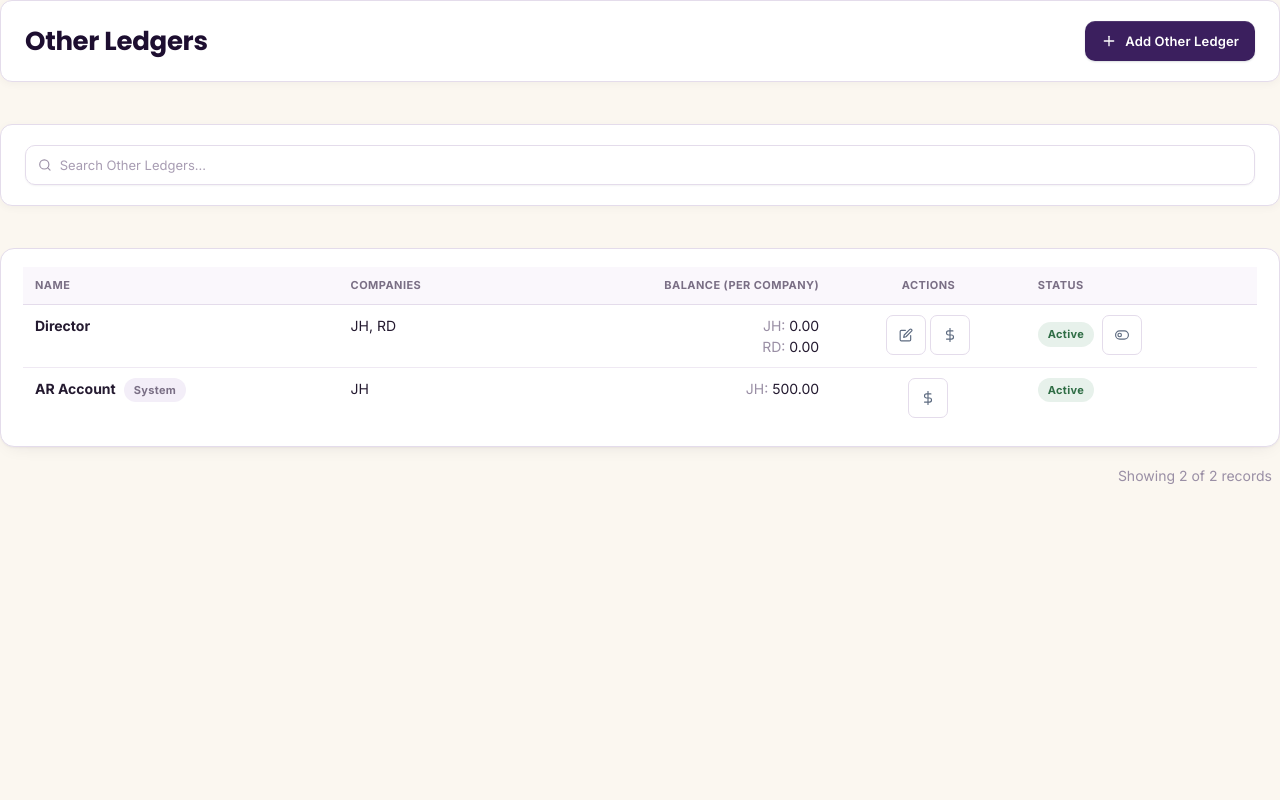
Test: OtherLedgerManagement - Opening Balance › server refusal (date not earlier than an existing entry) surfaces as an error popup
Expected: the text "Director" is shown, top-left (35, 316), bottom-right (90, 334)
Click the button titled "Set Opening Balance" in the row of "Director". click: (950, 334)
box: top-left (930, 314), bottom-right (970, 354)
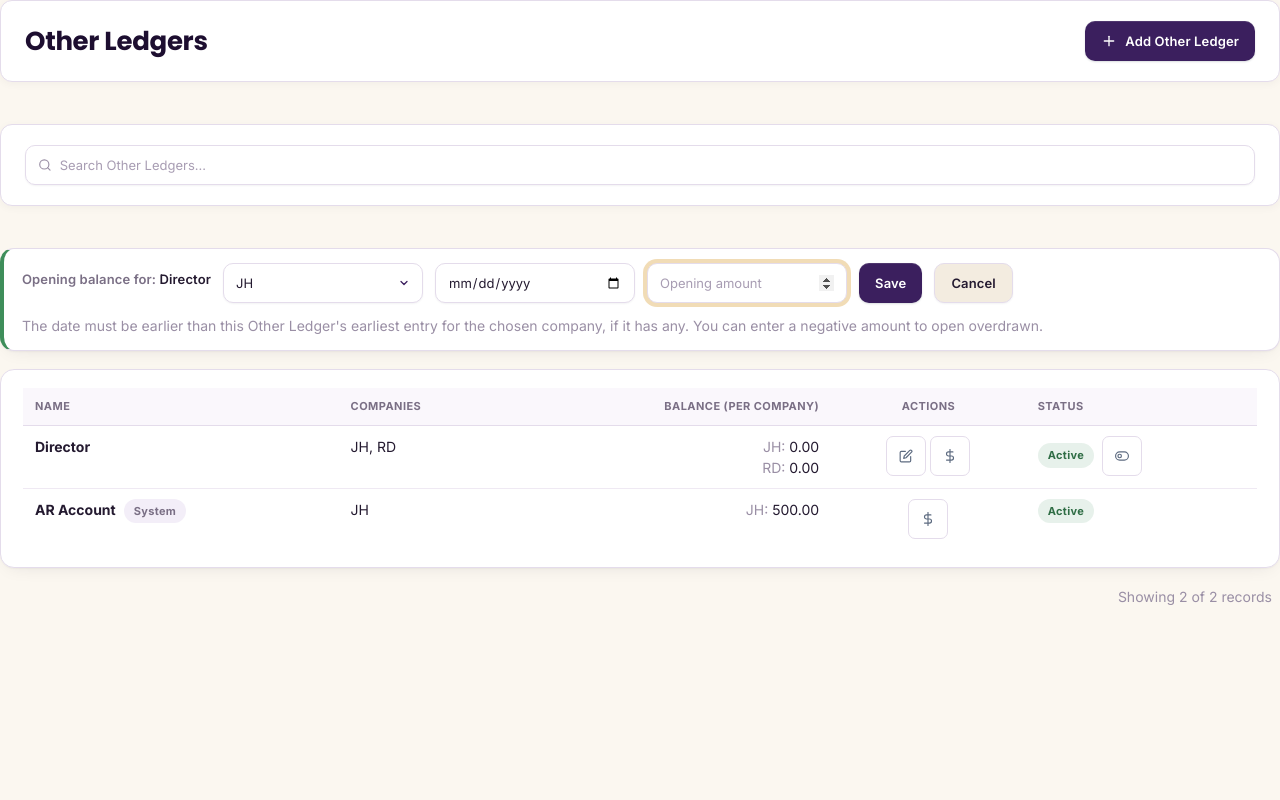
Result: the text "Opening balance for: Director" is shown at top-left (22, 270), bottom-right (211, 290)
Type "2026-09-20" into the date field named "Opening balance date". click: (535, 283)
box: top-left (435, 263), bottom-right (635, 303)
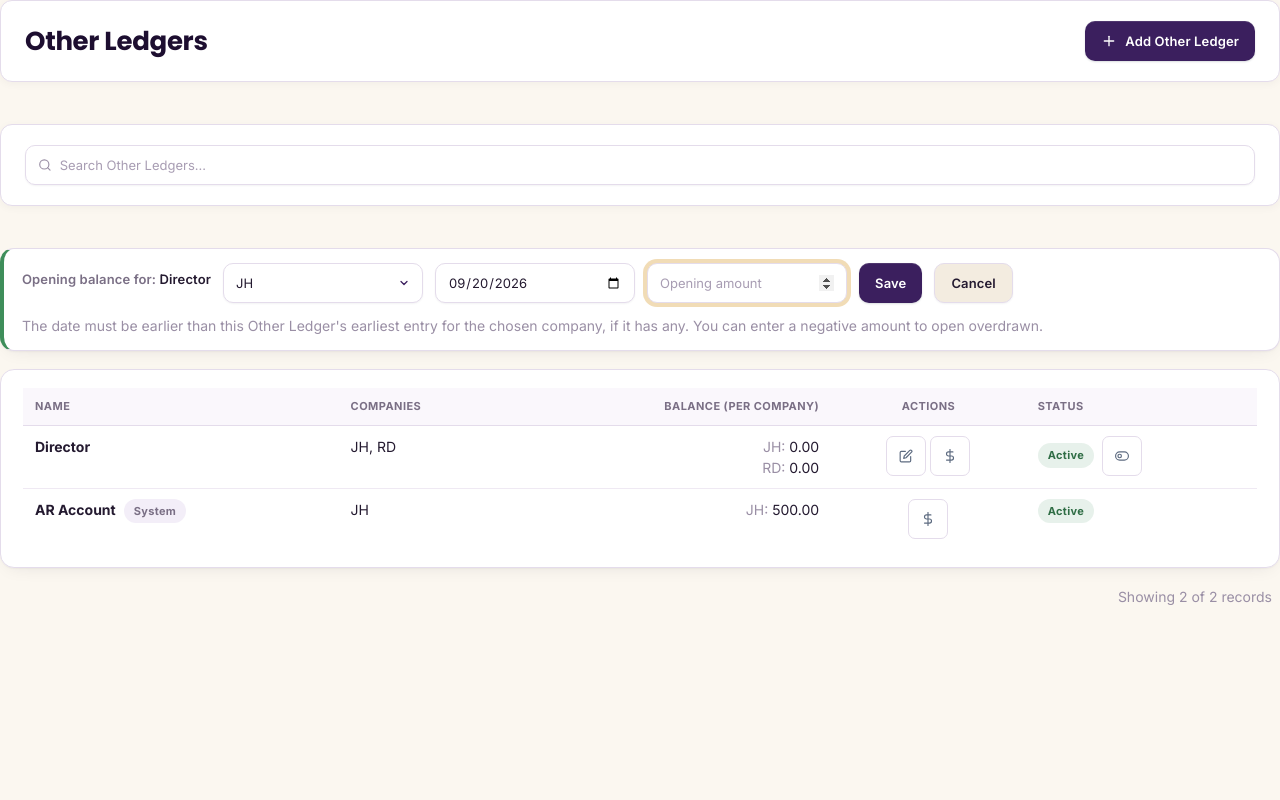
Type "100" into the number field with placeholder "Opening amount". click: (747, 283)
box: top-left (647, 263), bottom-right (847, 303)
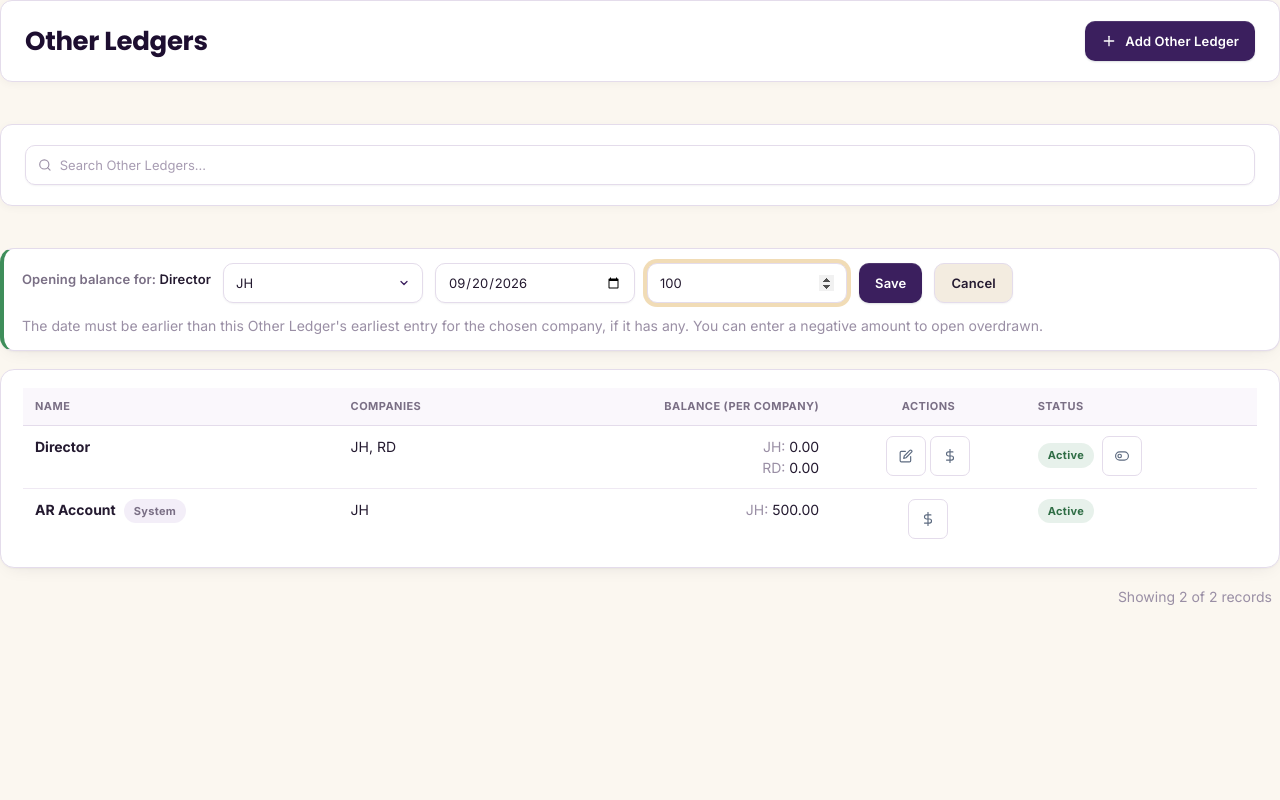
Click the button "Save". click: (891, 283)
box: top-left (859, 263), bottom-right (922, 303)
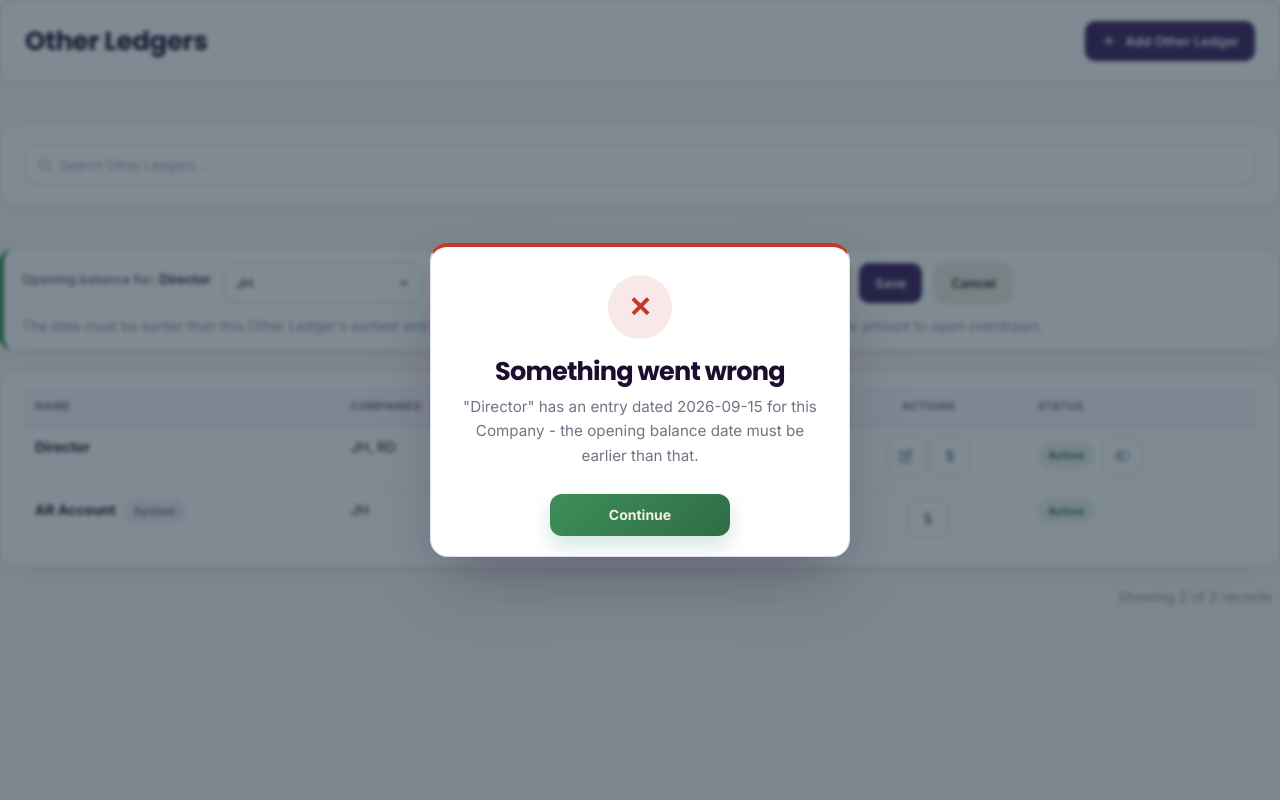
Result: the text "the opening balance date must be earlier than that" is shown at top-left (463, 397), bottom-right (817, 465)
